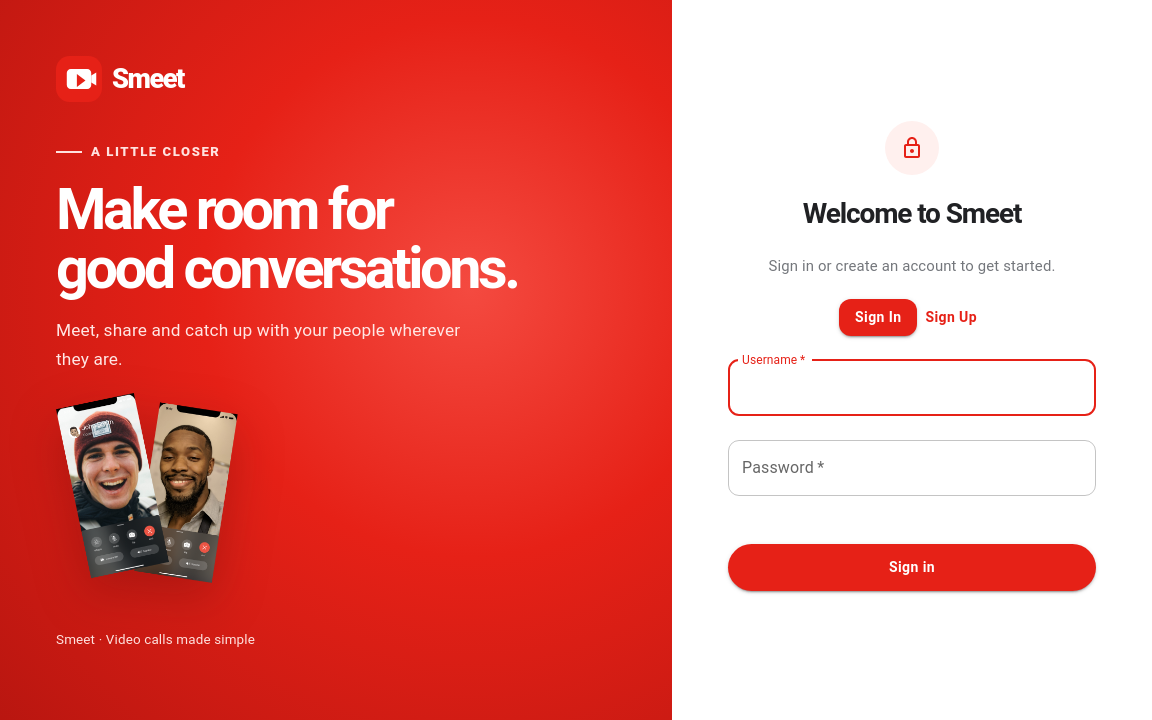
login and registration screens retain their fields and mode switch
Expected: the heading "Welcome to Smeet" is shown, [803,193,1021,235]
Expected: the field with id "username" is shown, [728,360,1096,416]
Click the button "Sign Up". click: point(951, 318)
box: [917,299,985,336]
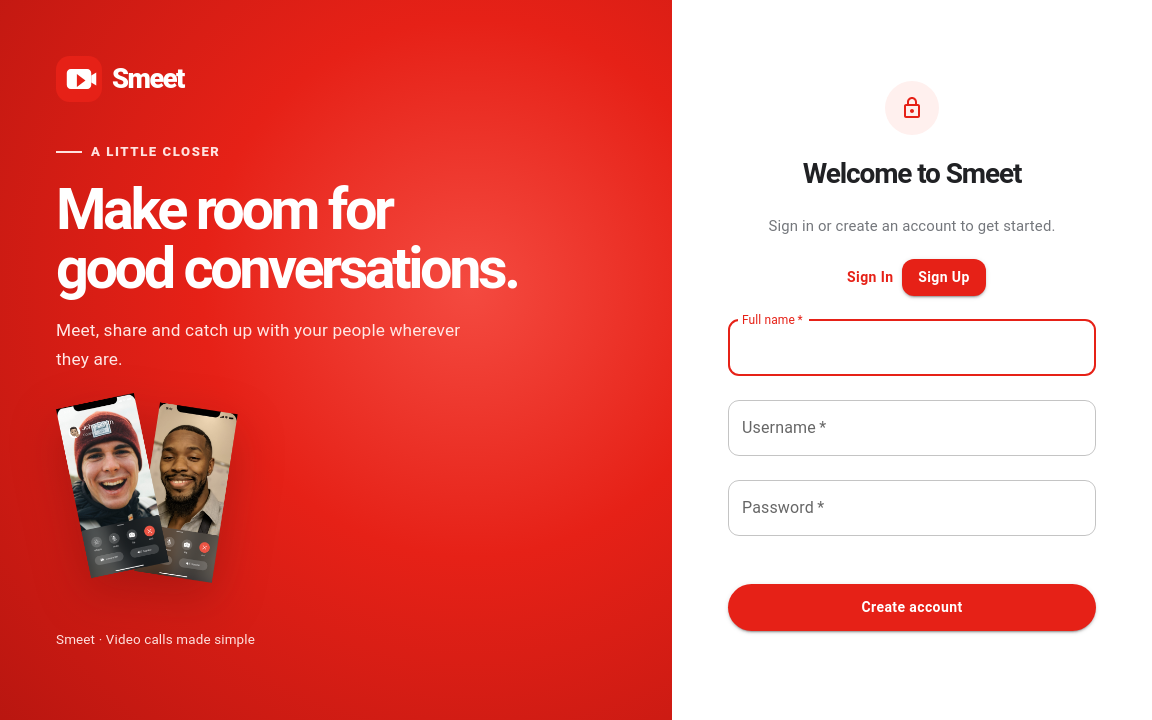
Expected: the field with id "username" is shown, [728,400,1096,456]
Expected: the field with id "full-name" is shown, [728,320,1096,376]
Expected: the button "Create account" is shown, [728,584,1096,631]
